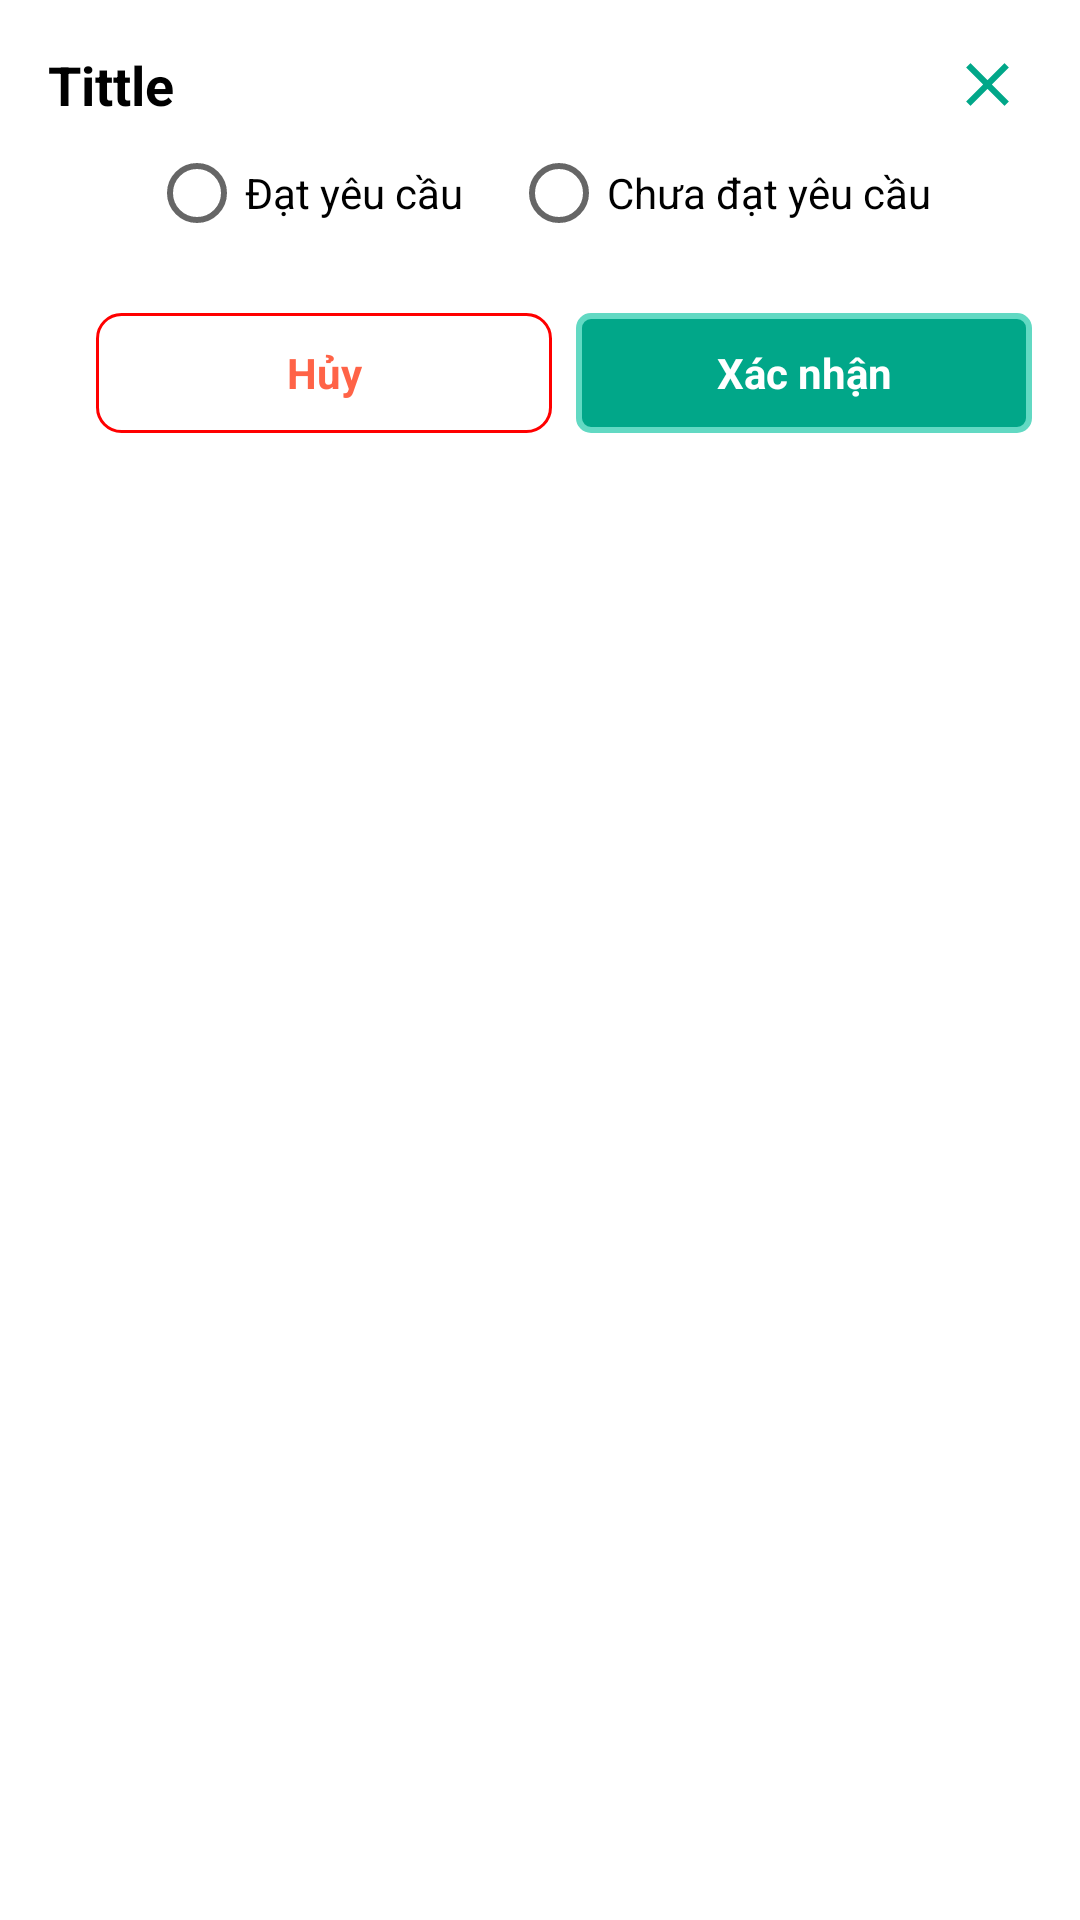

Icons on this 1080 × 1920 Android screen, each with the point to tap as [x,y]:
close: [987,84]
